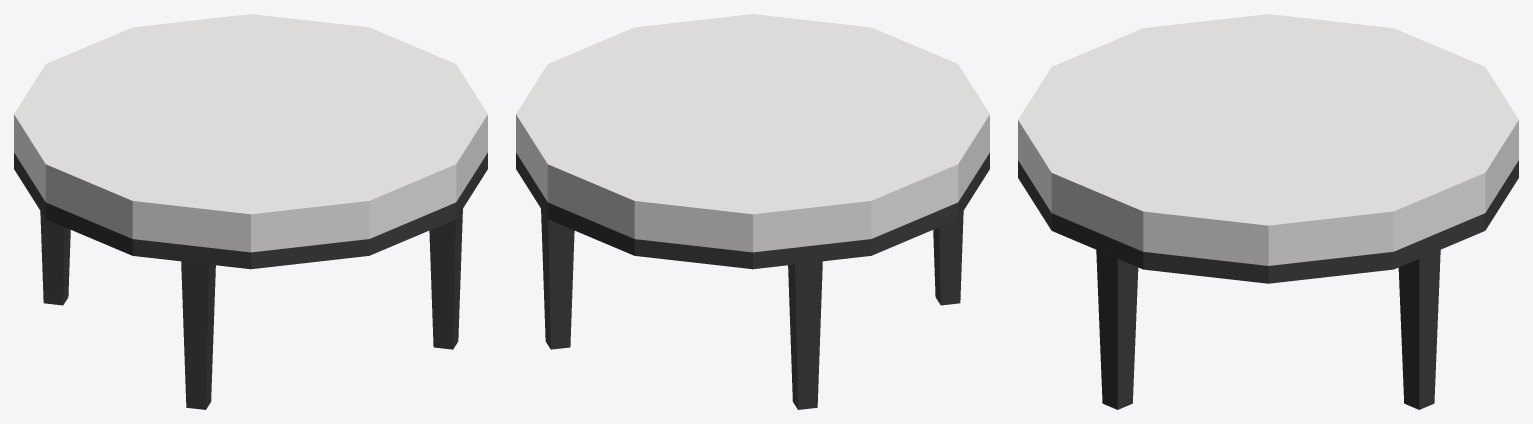
The model's file is Table_23.fbx.
3 views of the same model, side by side, from view 1: azimuth 30°, elevation 25°; view 2: azimuth 150°, elevation 25°; view 3: azimuth 270°, elevation 25° (orthographic). The views are drawn at different scales.
Visible parts, largest first — view 1: Table_23; view 2: Table_23; view 3: Table_23.
Boxes of the visible parts, x1,y1,x2,y2 form: Table_23: (14,14,487,409); Table_23: (516,14,989,409); Table_23: (1018,14,1518,409).
Size of the model in its own units: 114 by 114 by 55.17.
